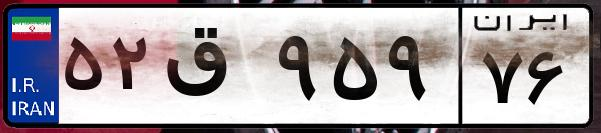2: (110, 28, 158, 98)
5: (330, 28, 385, 110), (57, 26, 110, 100)
6: (525, 38, 570, 115)
7: (475, 38, 525, 113)
9: (270, 28, 330, 110), (385, 28, 445, 110)
ق: (158, 20, 270, 120)
